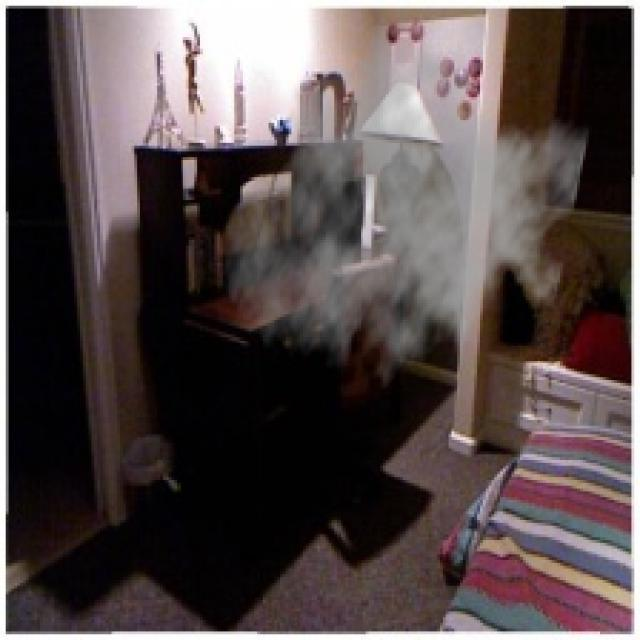Smoke: (219, 26, 592, 406)
